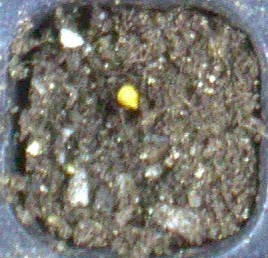chilli seed: (116, 84, 138, 109)
